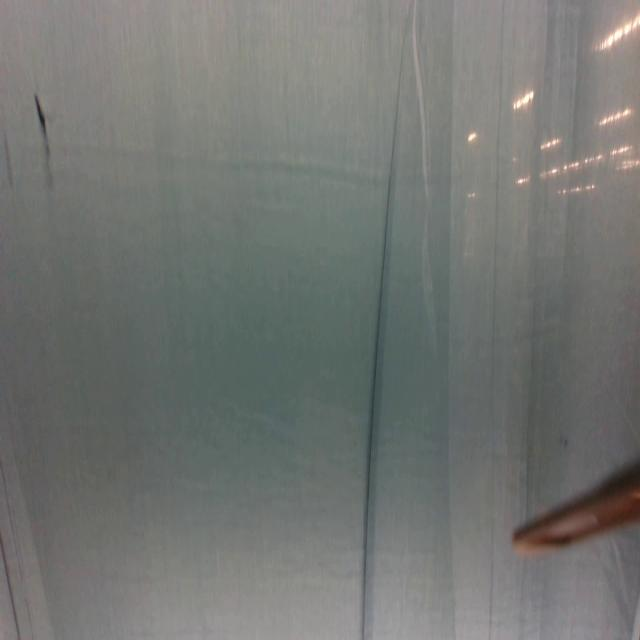crease: (360, 1, 412, 638), (487, 0, 506, 640), (1, 457, 34, 640)
hole: (34, 93, 51, 150), (561, 433, 569, 452)
